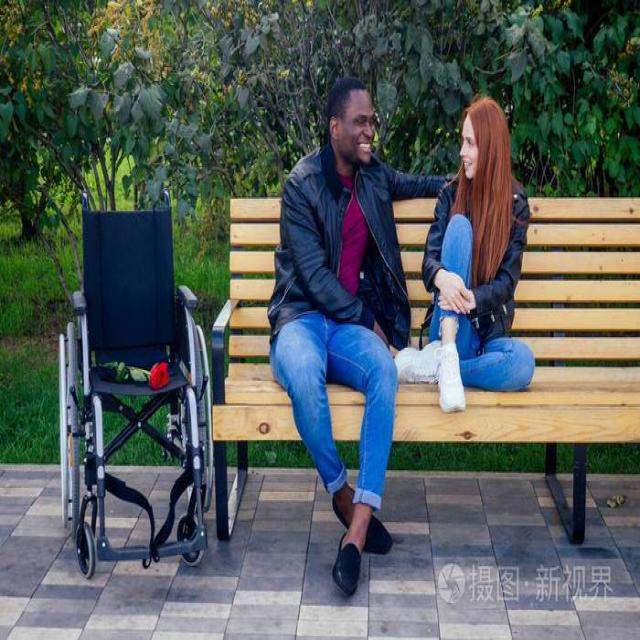wheelchairs: (49, 182, 226, 576)
